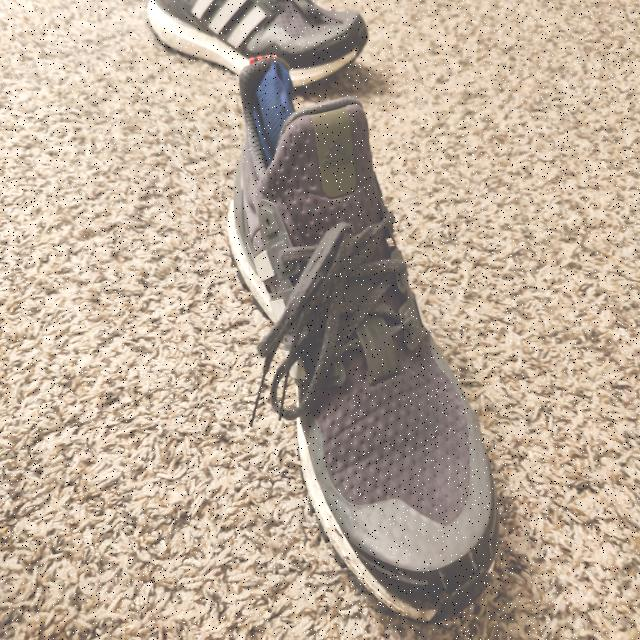black shoes: (221, 58, 495, 617)
